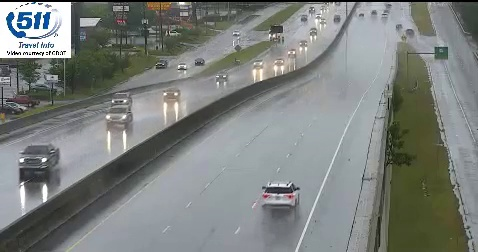car: (262, 182, 298, 208)
